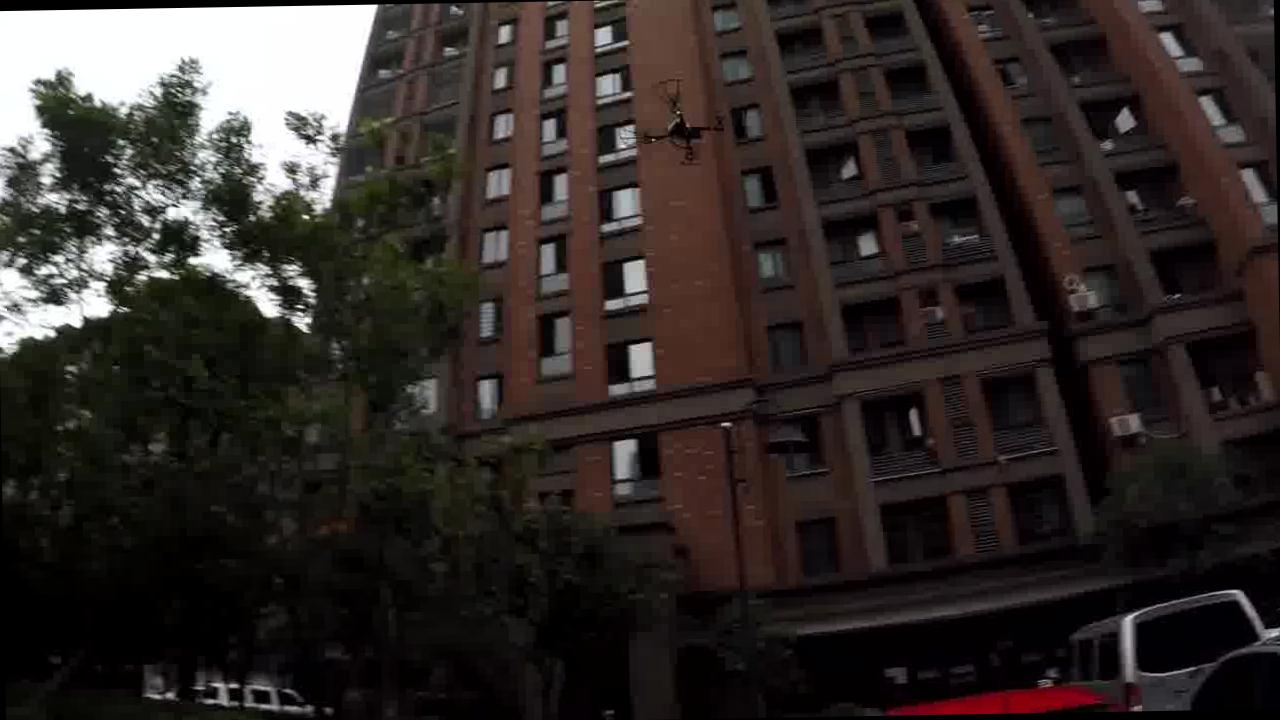drone: (613, 70, 730, 170)
